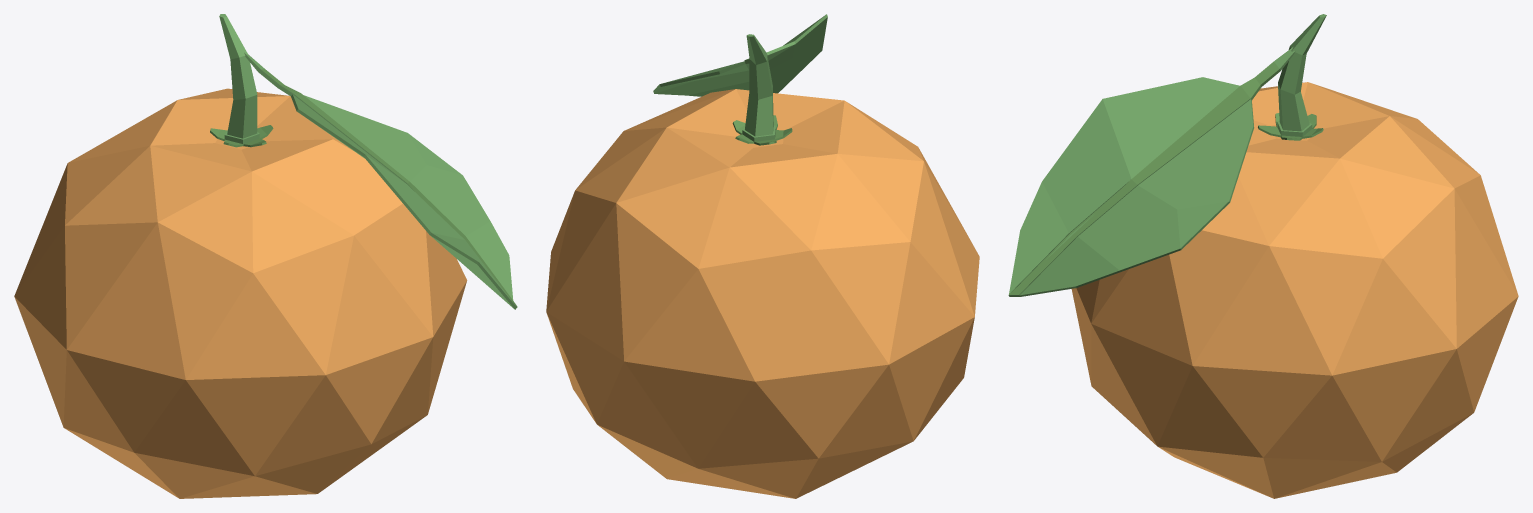
File: BuahJeruk.fbx
3 renders of one model, left to right at view 1: azimuth 30°, elevation 25°; view 2: azimuth 150°, elevation 25°; view 3: azimuth 270°, elevation 25°, orthographic.
Parts seen in each view (by area): view 1: jeruk.010; view 2: jeruk.010; view 3: jeruk.010.
Boxes of the visible parts, x1,y1,x2,y2 form: jeruk.010: (14, 14, 517, 498); jeruk.010: (546, 14, 979, 498); jeruk.010: (1008, 14, 1518, 498).
Bounding box in the file's own units: 9.01 × 10.03 × 10.23.
